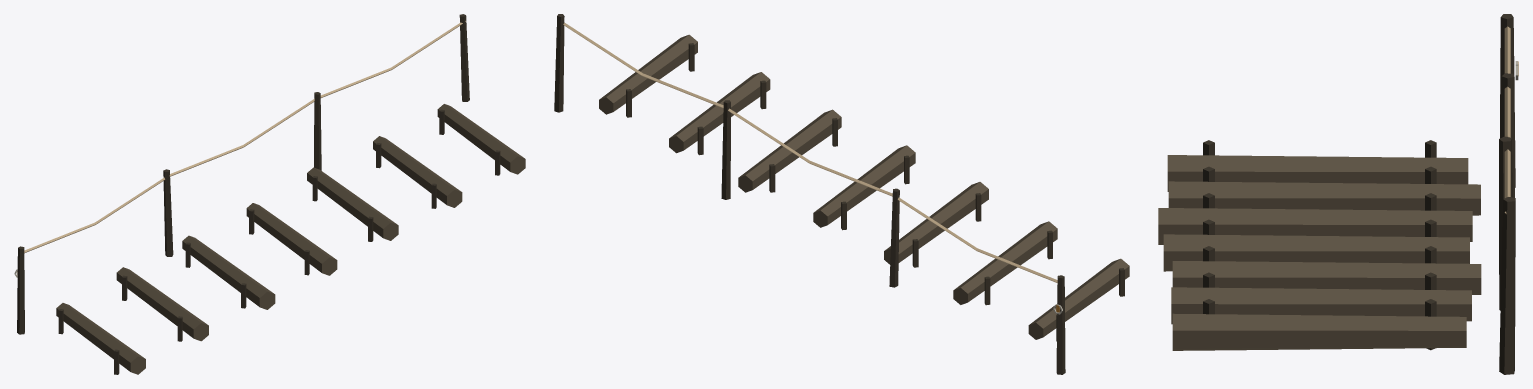
The model's file is ridge_steps_upper.glb.
3 renders of one model, left to right at view 1: azimuth 30°, elevation 25°; view 2: azimuth 150°, elevation 25°; view 3: azimuth 270°, elevation 25°, orthographic. The views are drawn at different scales.
Visible parts, largest first — view 1: driftwood_d55, driftwood_d70, driftwood_d5; view 2: driftwood_d55, driftwood_d70, driftwood_d5; view 3: driftwood_d55, driftwood_d70, driftwood_d5.
Part boxes in pixels (x1,y1,x2,y2): driftwood_d55: (56,104,525,374); driftwood_d70: (17,14,500,374); driftwood_d5: (24,21,466,253); driftwood_d55: (599,34,1129,339); driftwood_d70: (554,14,1124,374); driftwood_d5: (563,22,1057,282); driftwood_d55: (1158,155,1481,350); driftwood_d70: (1203,14,1515,374); driftwood_d5: (1504,26,1510,213).
Bounding box in the file's own units: 6.1 × 2.7 × 2.11.
